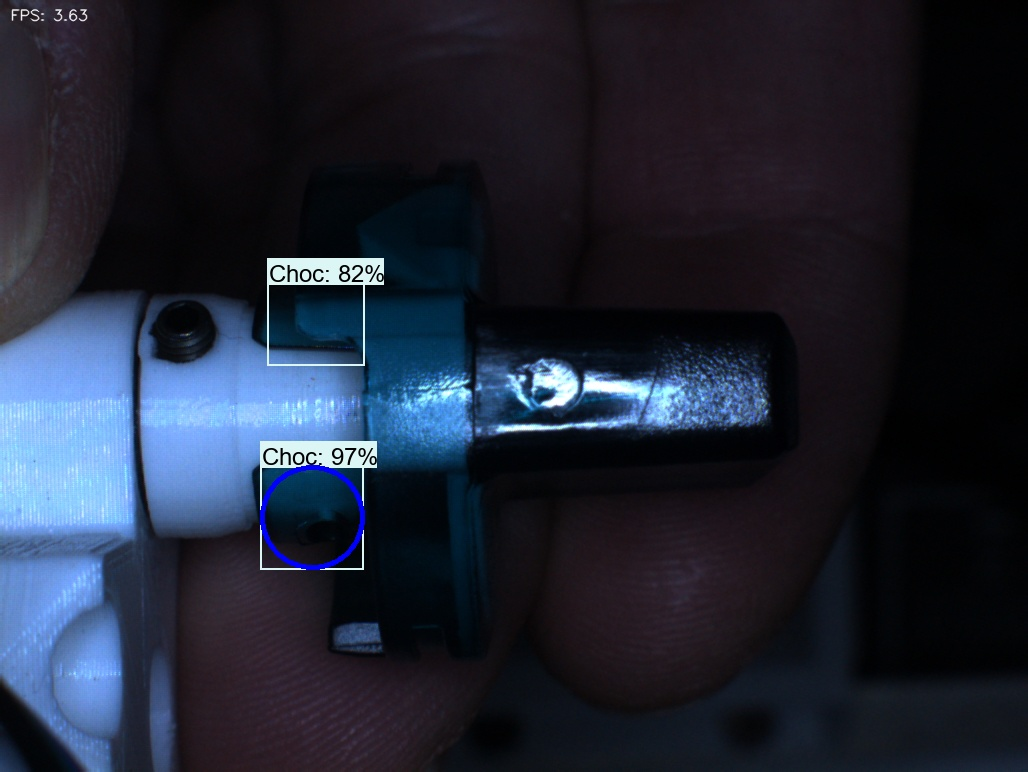DentOk: (334, 193, 401, 272)
